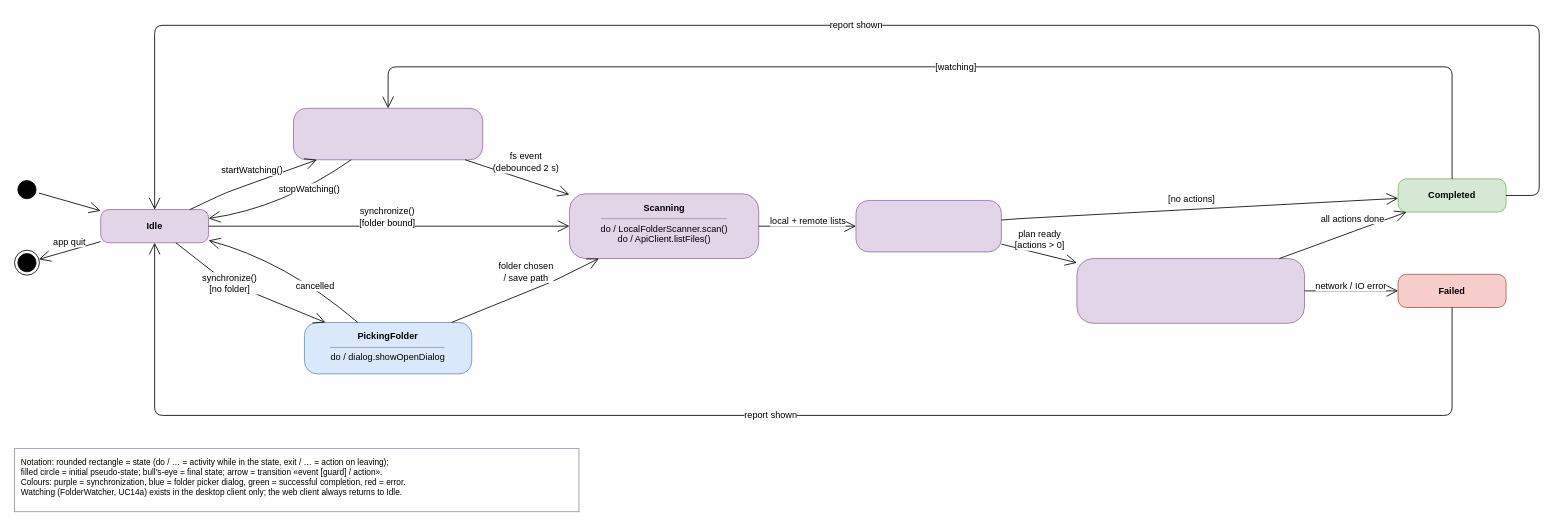
This 1565x526 diagram has some shape labels left out. The shapes that lost their labels are listed below. From the top down, each one's box as (x1, y1, x2, y2) in pixels, then its label:
(293, 107, 483, 160): Watching do / FolderWatcher.watch(path)
(855, 200, 1001, 252): Planning do / computeSyncPlan()
(1076, 258, 1305, 323): Transferring do / upload | download per SyncAction exit / build SyncReport
